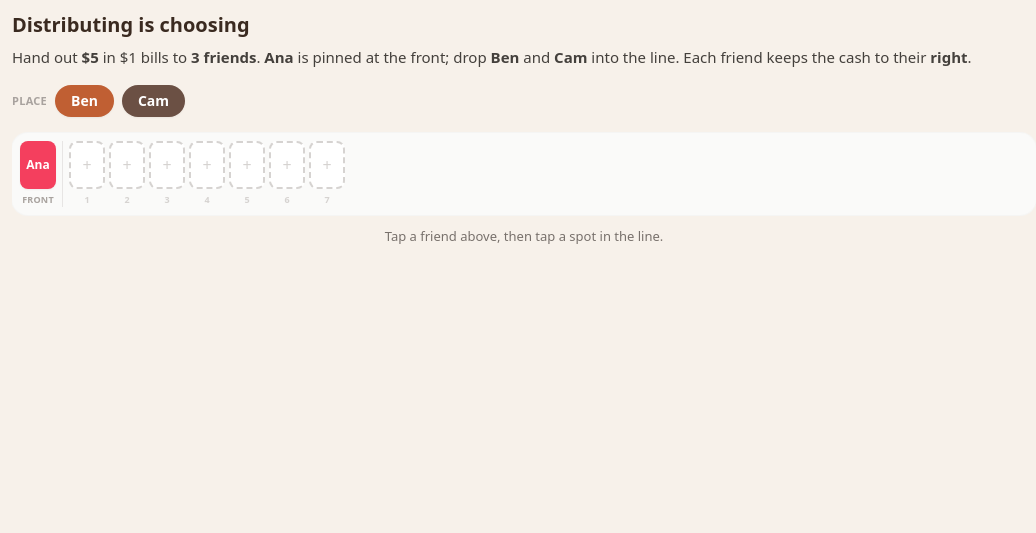
Test: multiset-distribute interaction › completes once both movable friends are seated in the line
The width and height of the screenshot is (1036, 533).
Click the button with aria-label "place ben" at (84, 101), box x1=55 y1=85 x2=114 y2=117
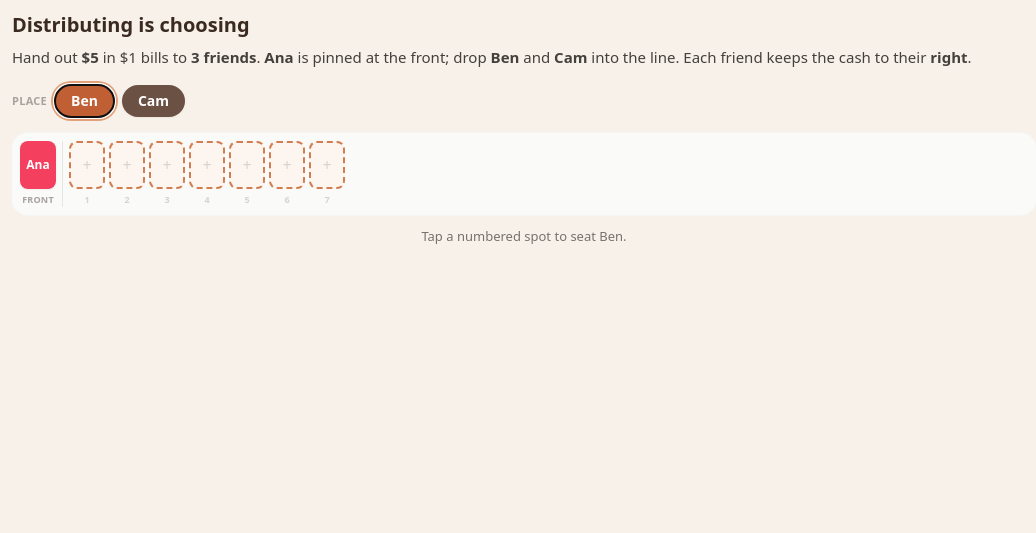
Click the button named "position 1" at (87, 165), box x1=69 y1=141 x2=105 y2=189
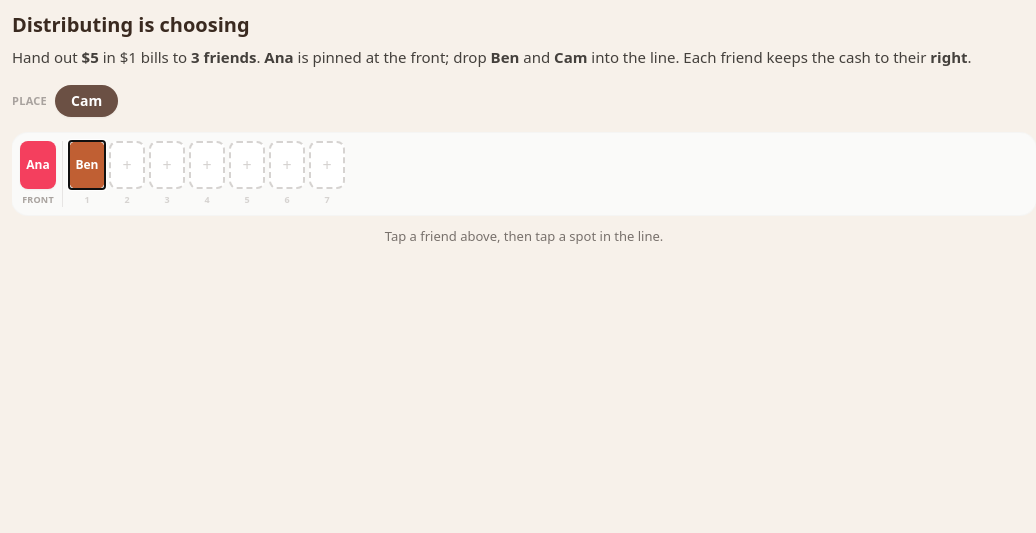
Click the button with aria-label "place cam" at (87, 101), box x1=55 y1=85 x2=118 y2=117
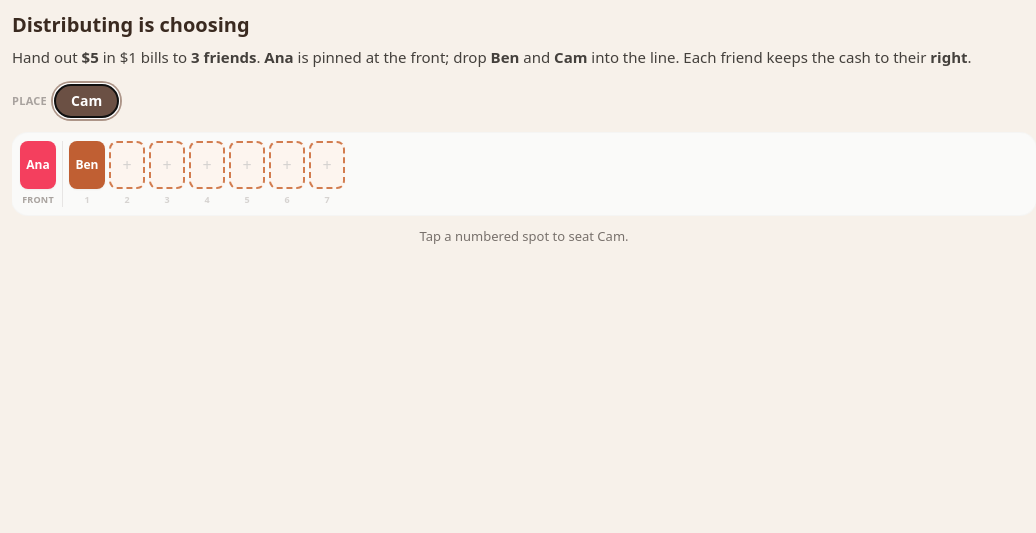
Click the button named "position 4" at (207, 165), box x1=189 y1=141 x2=225 y2=189
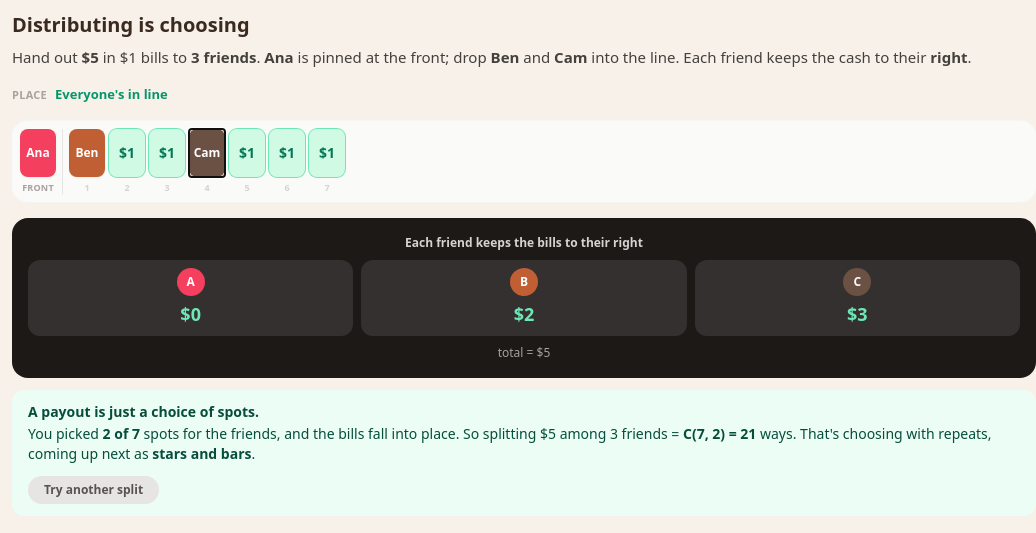
Check: the text "A payout is just a choice of spots." is shown, box x1=28 y1=402 x2=259 y2=421
